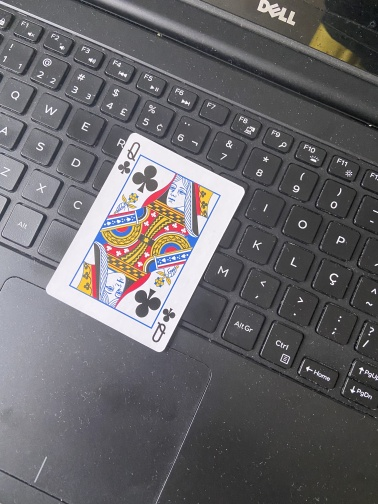queen: (44, 131, 246, 354)
